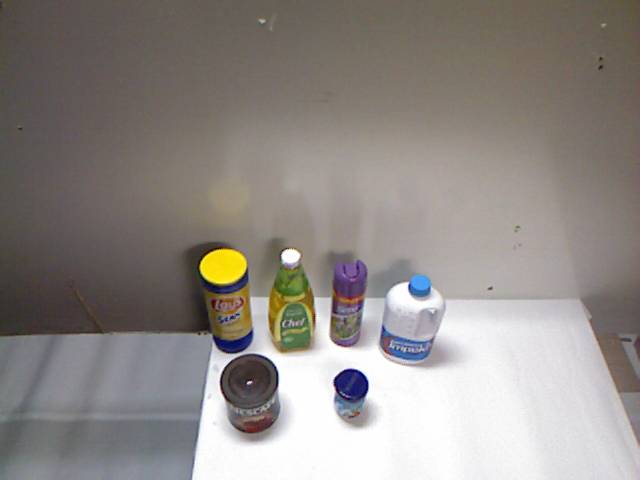esponja: (404, 327, 457, 384)
estuche: (281, 292, 369, 347)
greda: (279, 344, 375, 435)
guante: (203, 272, 295, 411)
mostaza: (367, 282, 413, 344)
platano: (347, 333, 415, 441)
